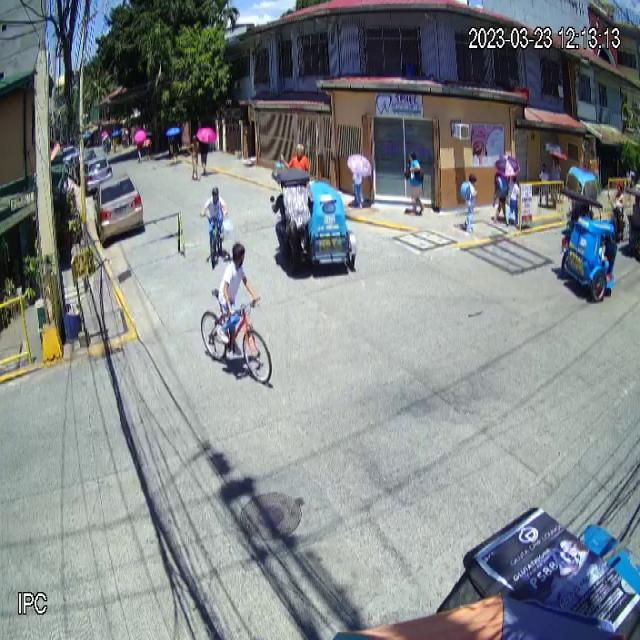Car: (92, 174, 143, 243)
Tricycle: (270, 168, 356, 274), (559, 189, 618, 300)
